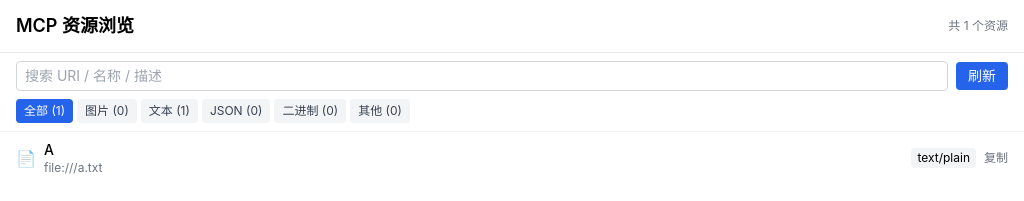
Test: McpResourcePanel › readResource 错误显示
Click the text "A" at (49, 150), box [44,141,54,158]
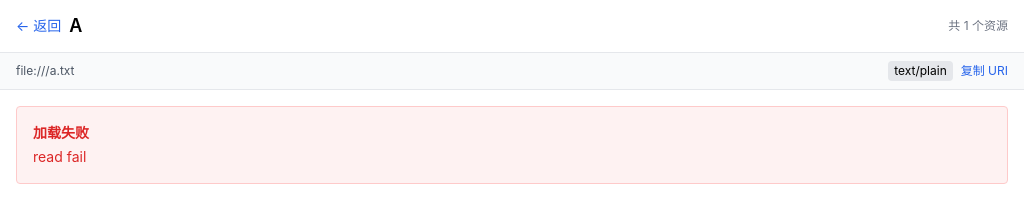
Expected: the element with test id "mcp-resource-viewer-error" shows "read fail", [33,148,86,165]
